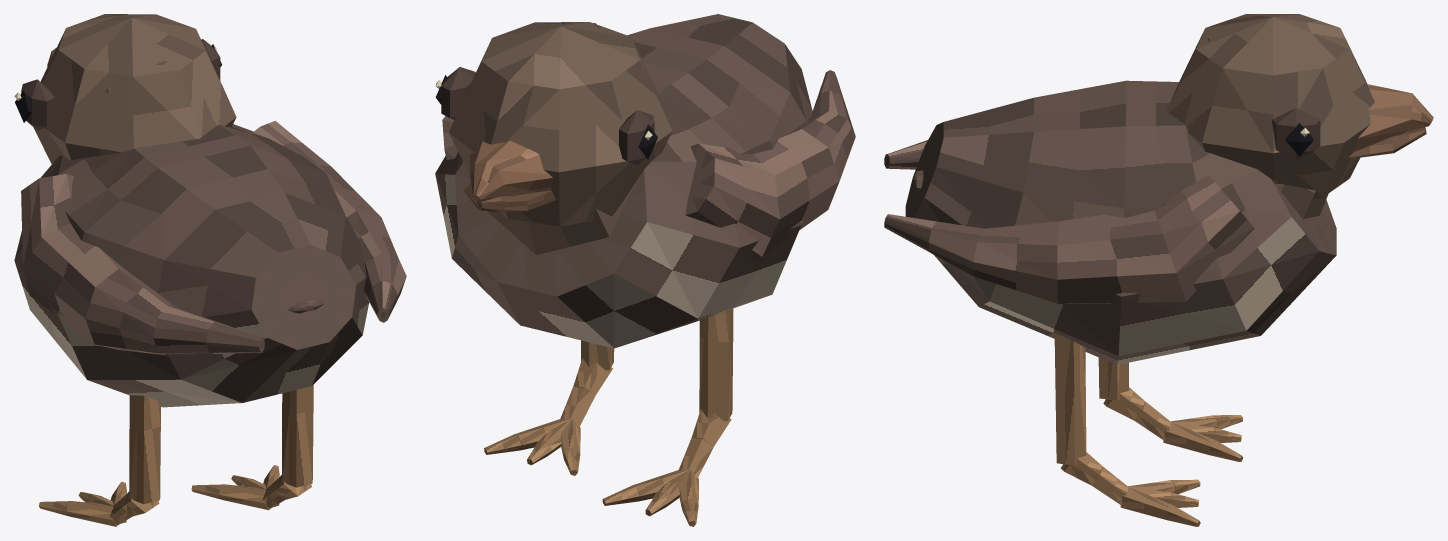
Rendered from mon_turkey_chick.glb.
The picture shows the model from 3 angles, left to right: view 1: azimuth 30°, elevation 25°; view 2: azimuth 150°, elevation 25°; view 3: azimuth 270°, elevation 25°; orthographic projection. The views are drawn at different scales.
Parts seen in each view (by area): view 1: closed_body; view 2: closed_body; view 3: closed_body.
Part boxes in pixels (x1=…): closed_body: x1=14, y1=14, x2=406, y2=526; closed_body: x1=435, y1=14, x2=855, y2=526; closed_body: x1=884, y1=14, x2=1433, y2=526.
Bounding box in the file's own units: 0.07 × 0.097 × 0.1053.
Materials: 1 (1 with a texture image).
